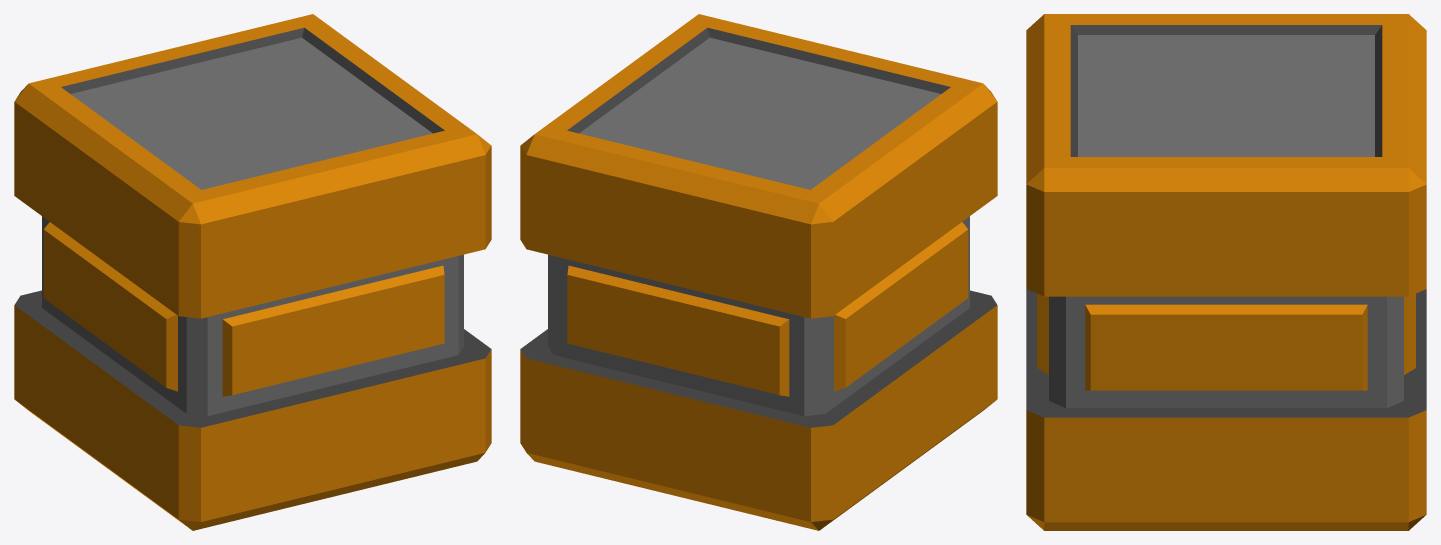
Rendered from Crate4.fbx.
The picture shows the model from 3 angles, left to right: view 1: azimuth 30°, elevation 25°; view 2: azimuth 150°, elevation 25°; view 3: azimuth 270°, elevation 25°; orthographic projection. The views are drawn at different scales.
Visible parts, largest first — view 1: ToolCrate00, ToolCrate00.002, ToolCrate00.001; view 2: ToolCrate00, ToolCrate00.002, ToolCrate00.001; view 3: ToolCrate00, ToolCrate00.002, ToolCrate00.001.
Part boxes in pixels (x1,y1,x2,y2): ToolCrate00: [14, 14, 491, 318]; ToolCrate00.002: [14, 290, 491, 530]; ToolCrate00.001: [42, 216, 463, 416]; ToolCrate00: [520, 14, 997, 318]; ToolCrate00.002: [520, 290, 997, 530]; ToolCrate00.001: [548, 216, 969, 416]; ToolCrate00: [1026, 14, 1426, 296]; ToolCrate00.002: [1026, 289, 1426, 530]; ToolCrate00.001: [1037, 293, 1415, 407].
Bounding box in the file's own units: 40 × 40 × 40.
